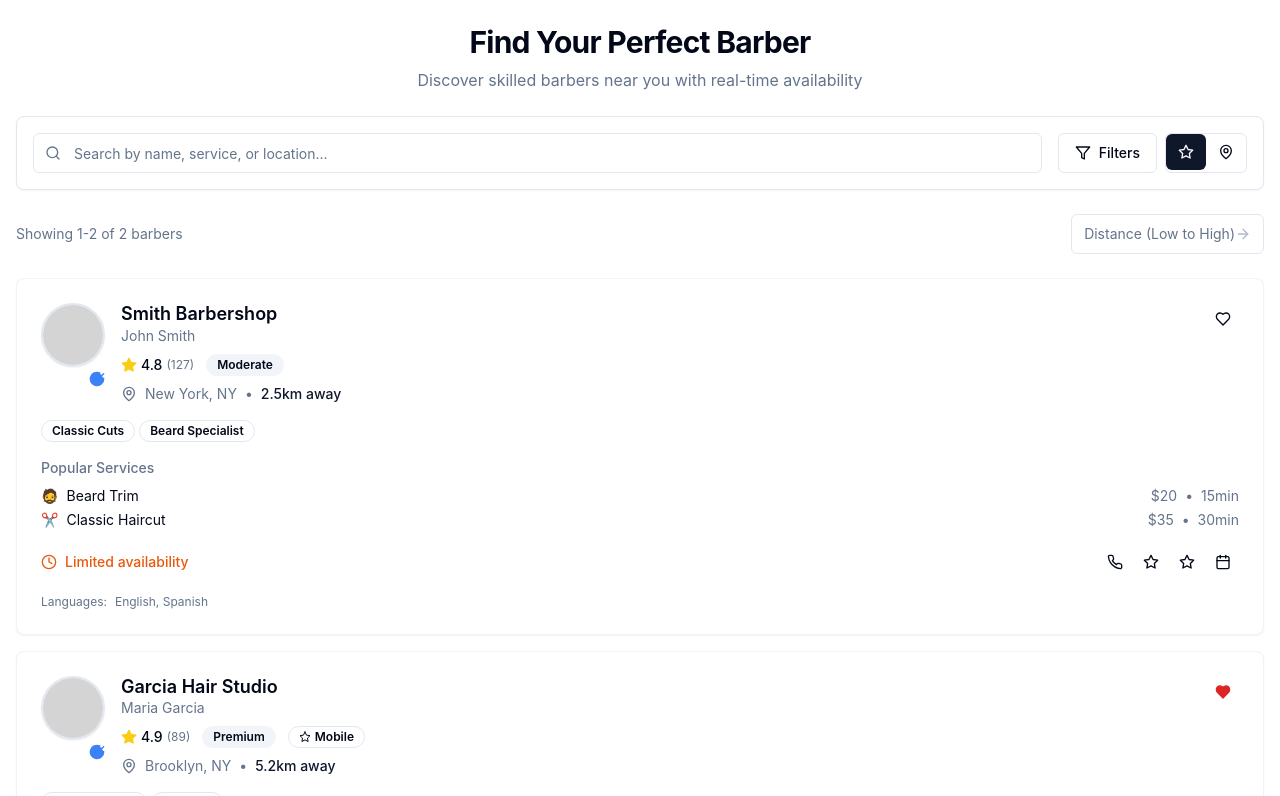
Test case: BarberSearch Component › Filters › toggles filter panel
Click the button "Filters" at (1107, 153), box [1058, 133, 1157, 173]
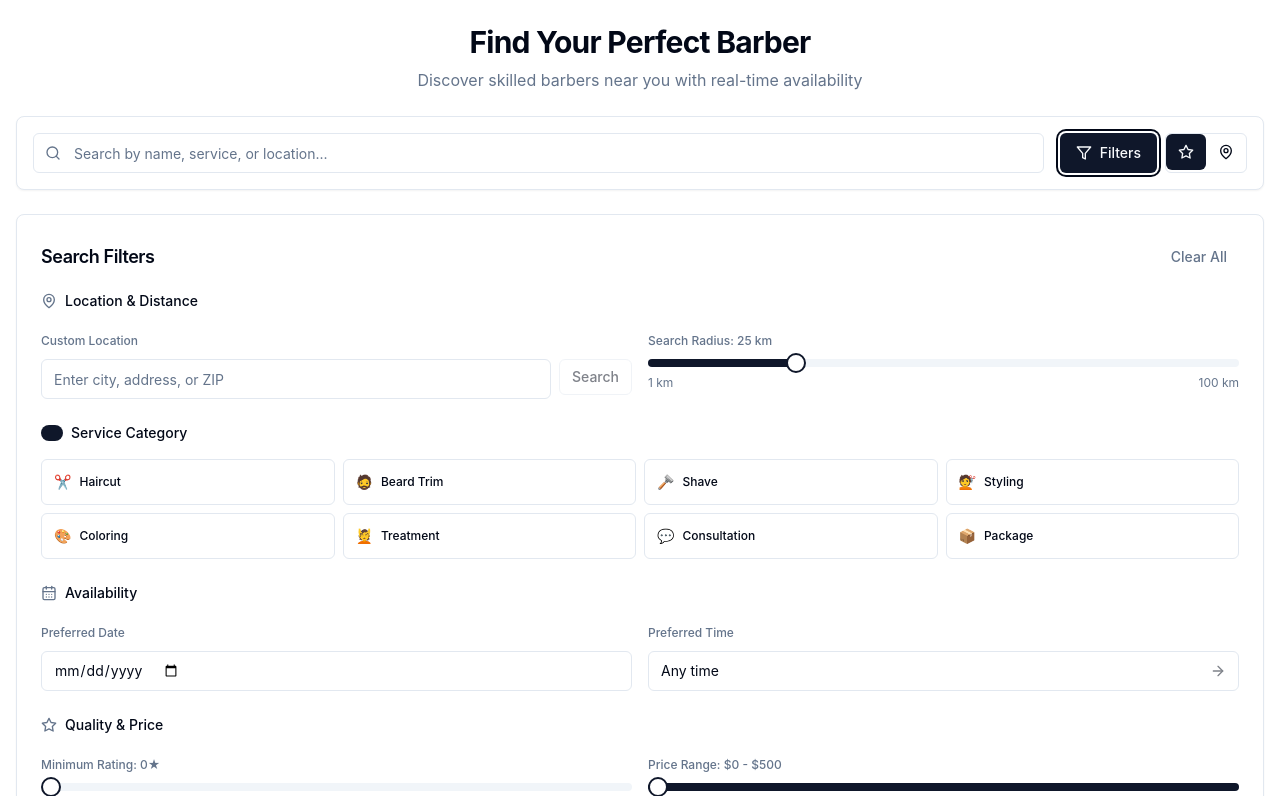
Expected: the heading "Search Filters" is shown, [41, 243, 154, 271]
